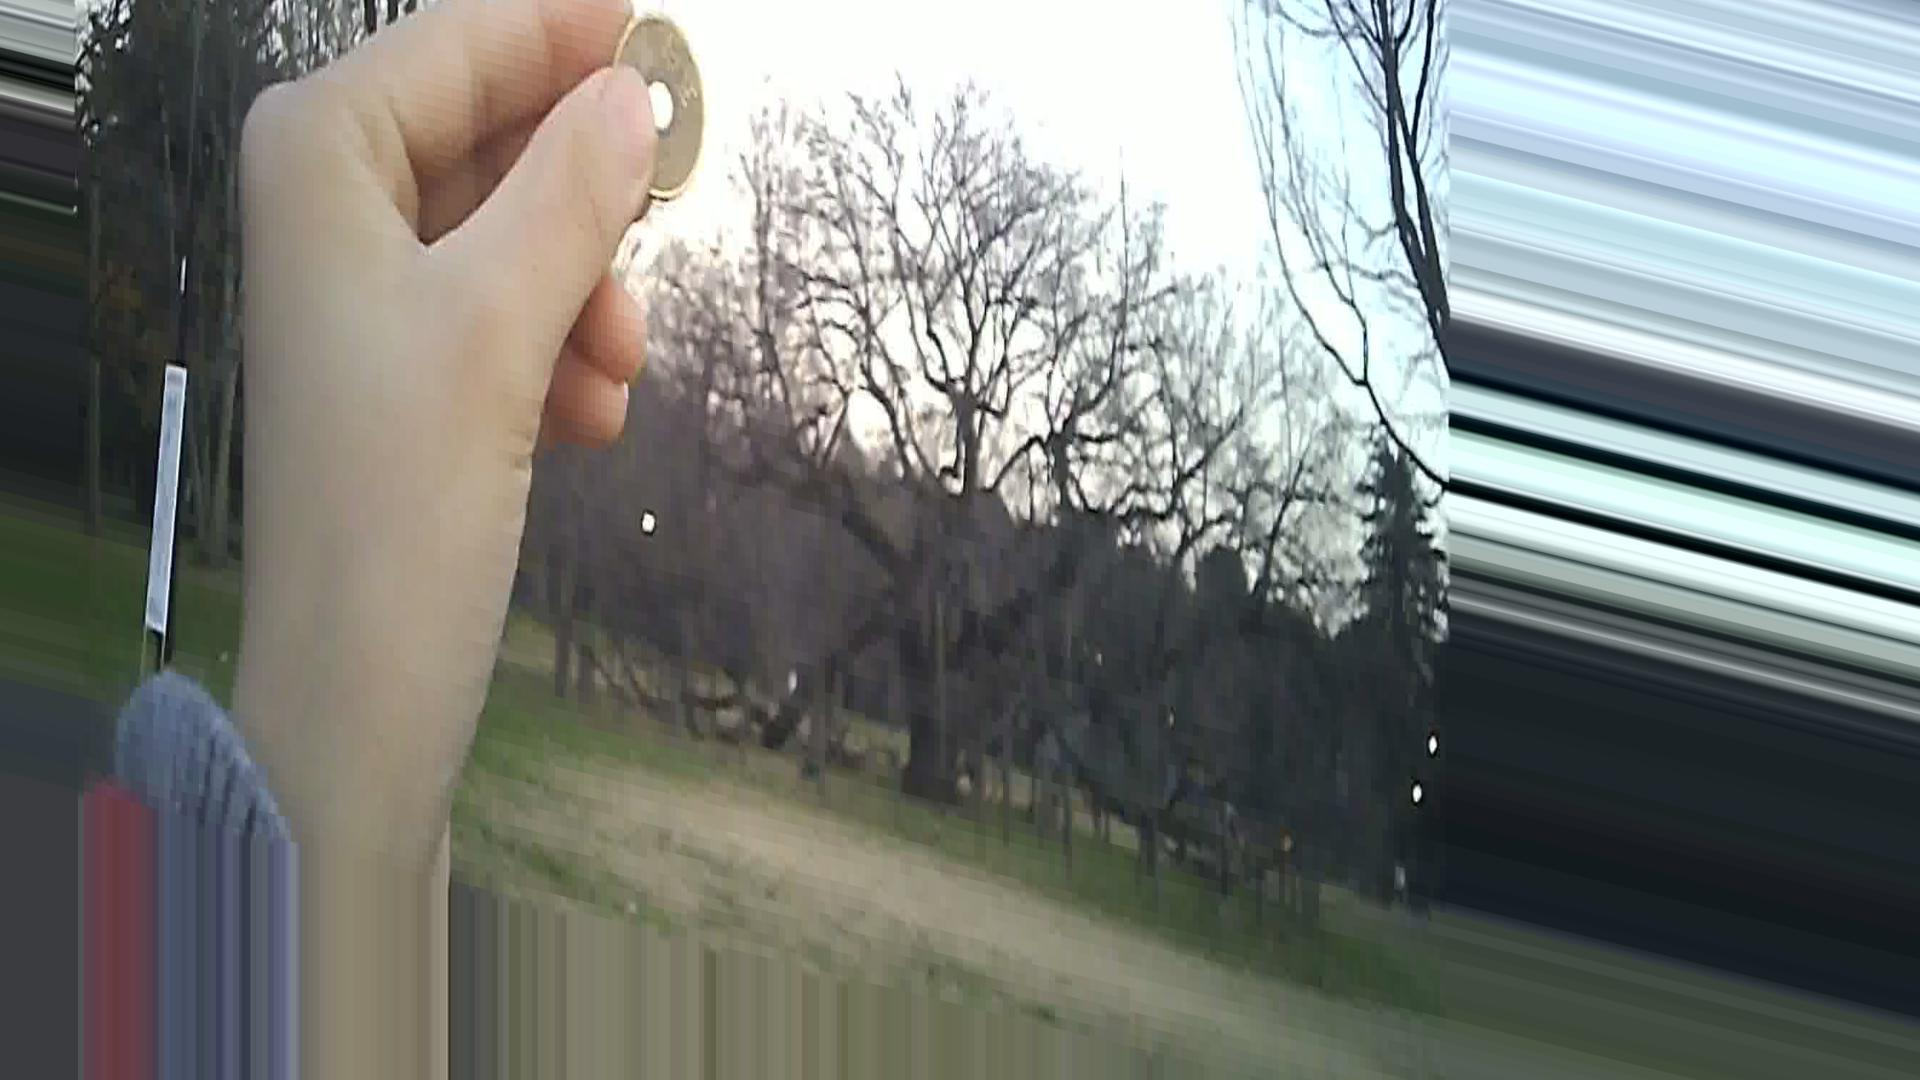5 Yen: (603, 7, 716, 195)
